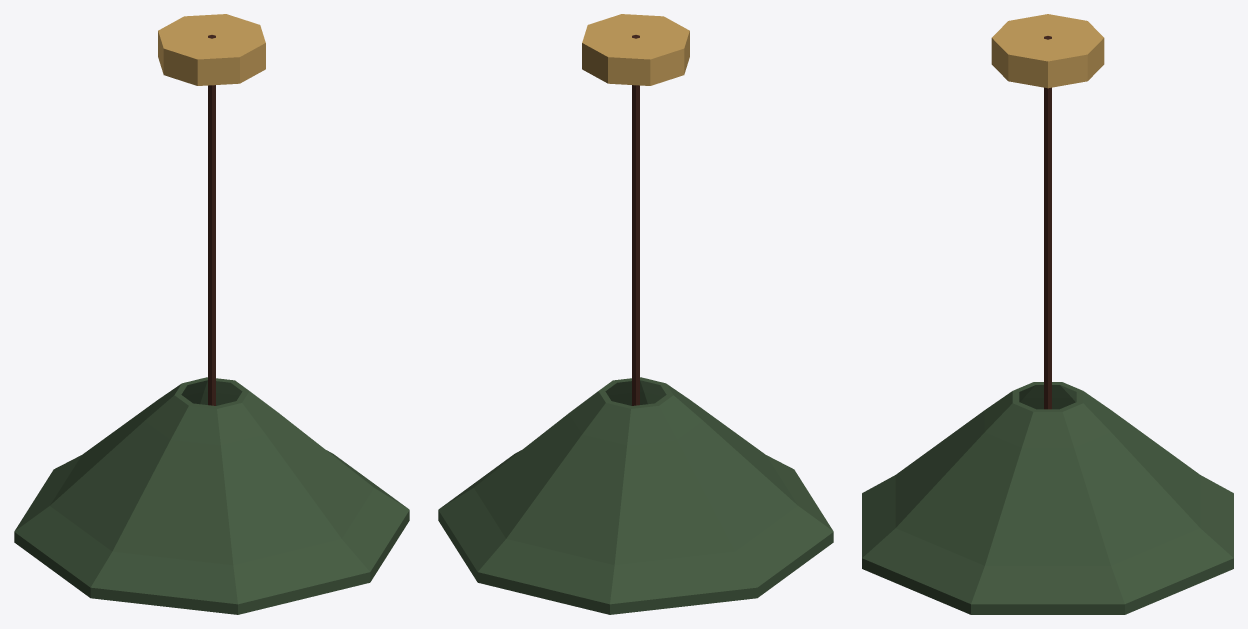
File: pendant_lamp.glb
The picture shows the model from 3 angles, left to right: view 1: azimuth 30°, elevation 25°; view 2: azimuth 150°, elevation 25°; view 3: azimuth 270°, elevation 25°; orthographic projection.
Visible parts, largest first — view 1: Shade, Ceiling_cap, Cord; view 2: Shade, Ceiling_cap, Cord; view 3: Shade, Ceiling_cap, Cord.
Boxes of the visible parts, box(x1,y1,x2,y2) form: Shade: box(14, 377, 409, 614); Ceiling_cap: box(158, 14, 265, 85); Cord: box(208, 35, 215, 405); Shade: box(438, 377, 833, 614); Ceiling_cap: box(582, 14, 689, 85); Cord: box(632, 35, 639, 405); Shade: box(862, 382, 1233, 614); Ceiling_cap: box(991, 14, 1104, 88); Cord: box(1044, 36, 1051, 409).
Size of the model in its own units: 0.6282 by 0.93 by 0.6282.
